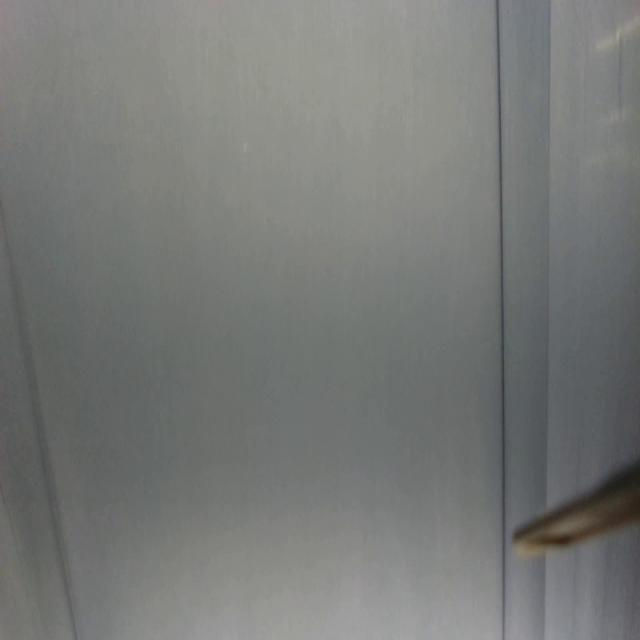crease: (0, 194, 84, 640), (494, 0, 508, 640), (543, 0, 554, 507), (540, 554, 550, 640)
